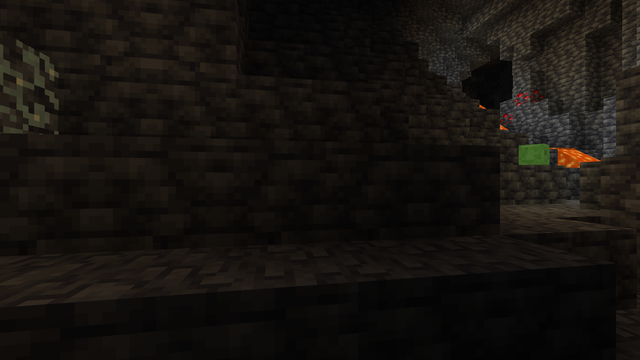slimes: (515, 142, 552, 164)
